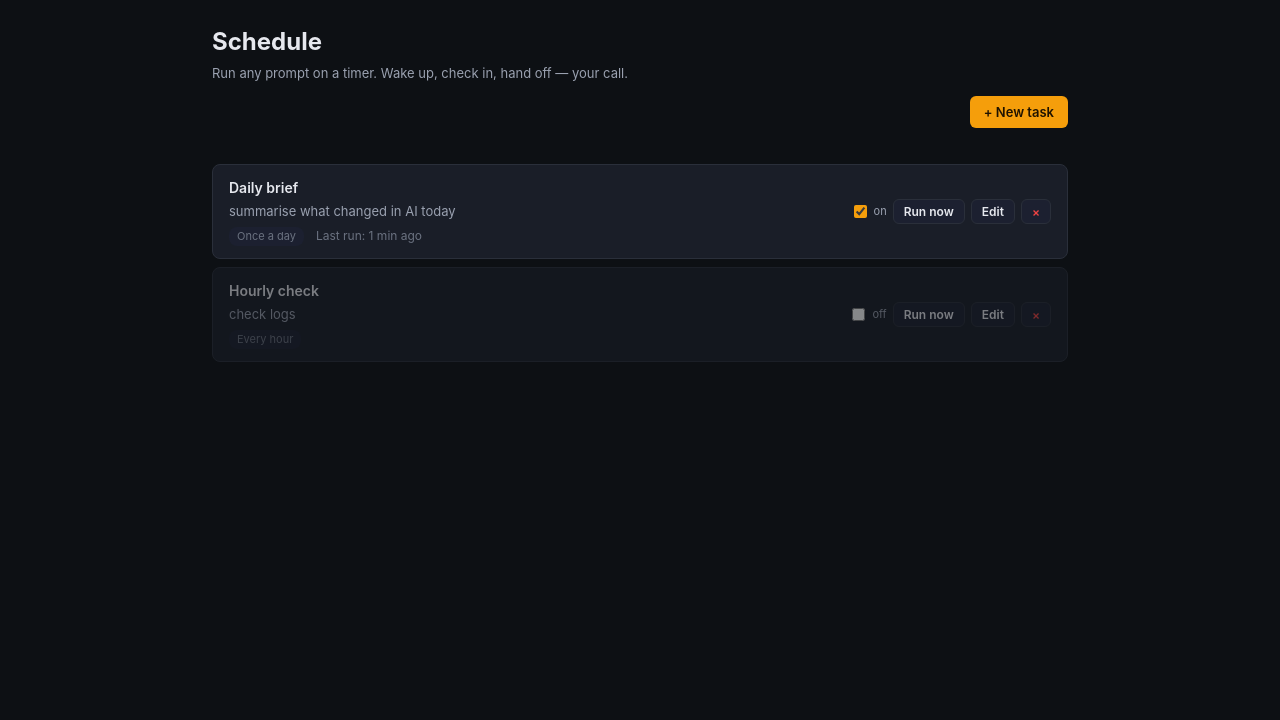
Test case: ScheduleView › Cancel closes the form without saving
Click the button "+ New task" at (1019,112), box [970,96,1068,128]
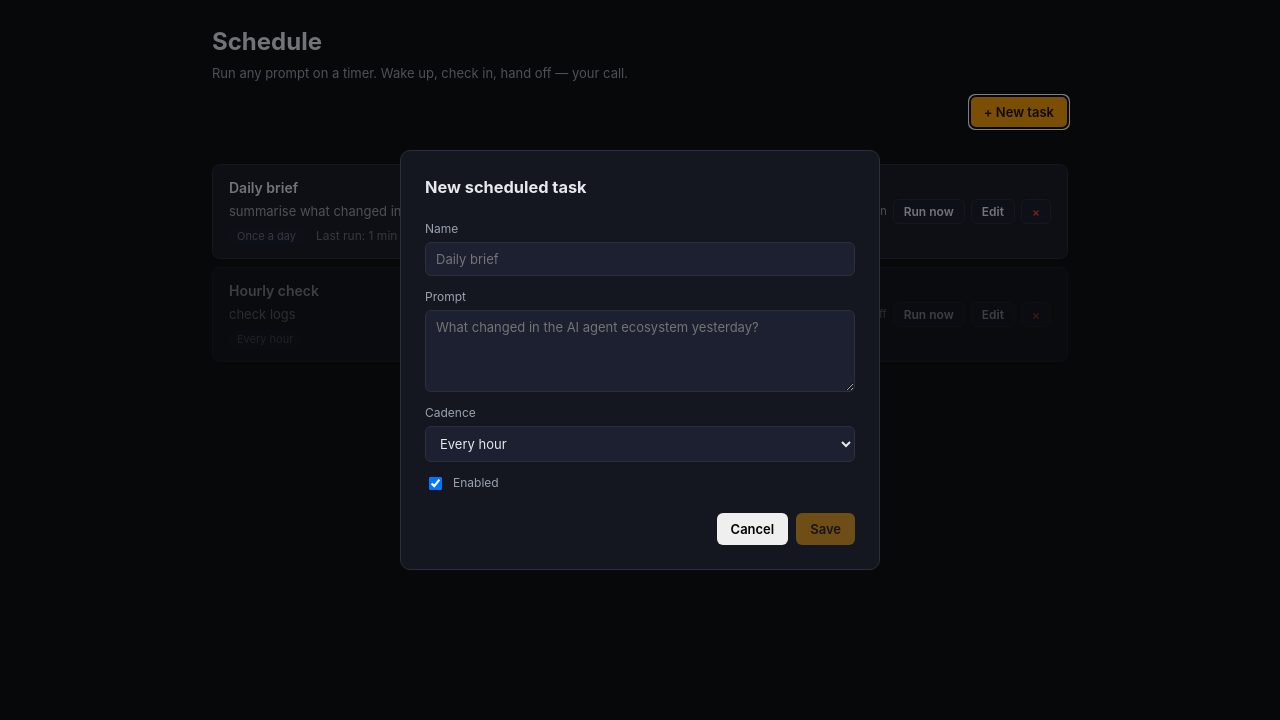
Expected: the heading "New scheduled task" is shown, [425,177,587,197]
Click the button "Cancel" at (752,529), box [716,513,788,545]
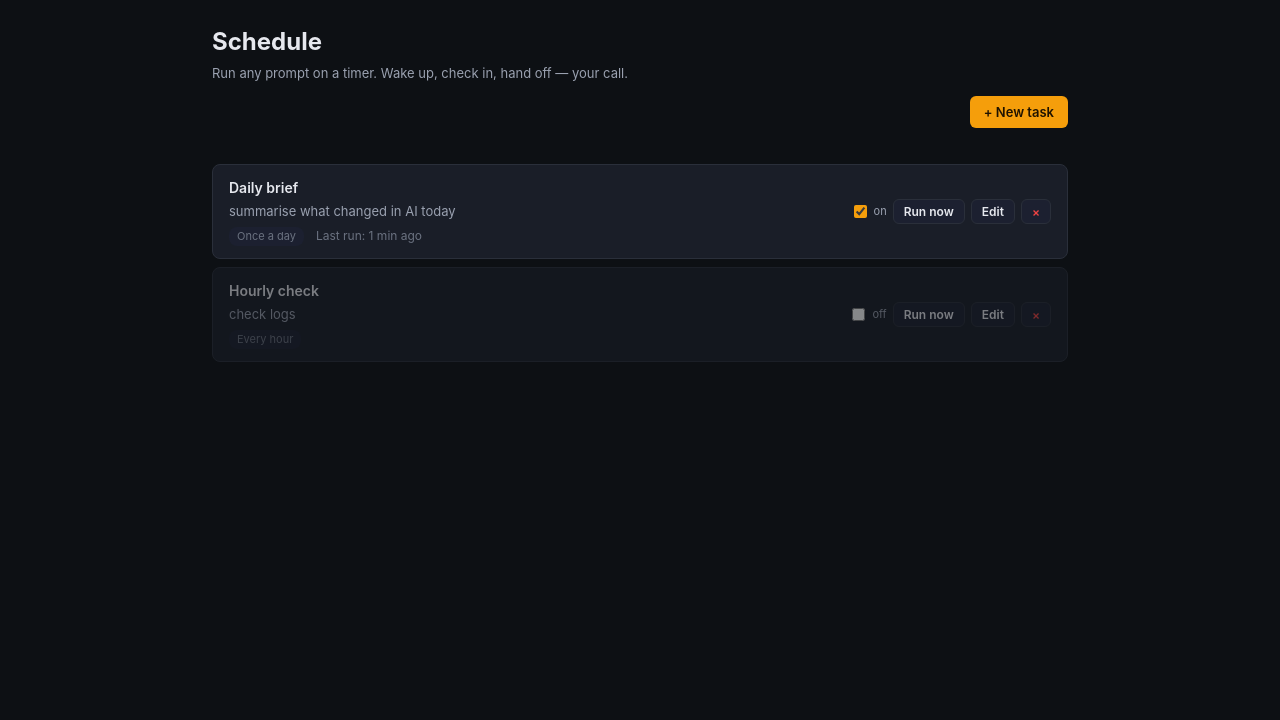
Expected: the heading "New scheduled task" is gone
